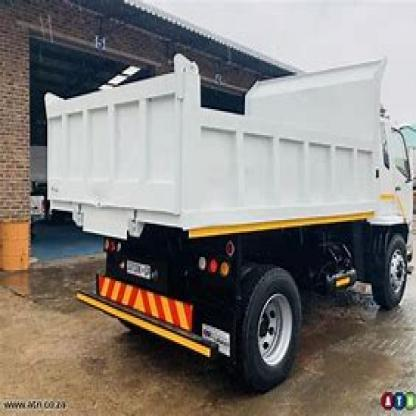dump_truck: (33, 37, 414, 396)
